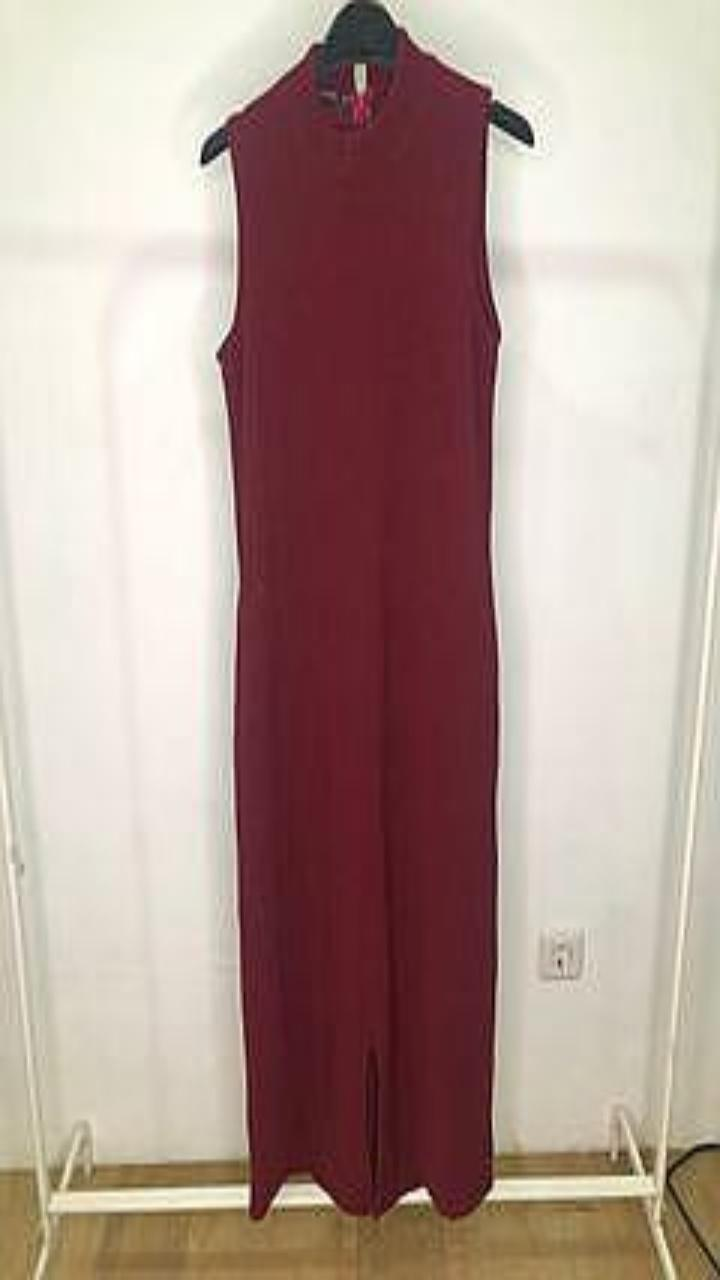Dresses: (217, 27, 499, 1217)
